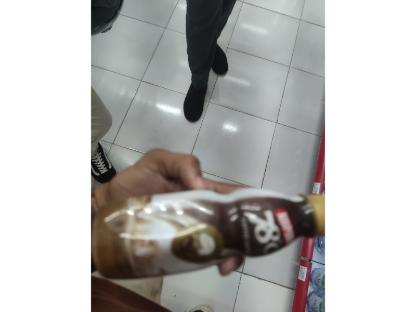Plastic Bottle: (86, 170, 340, 278)
